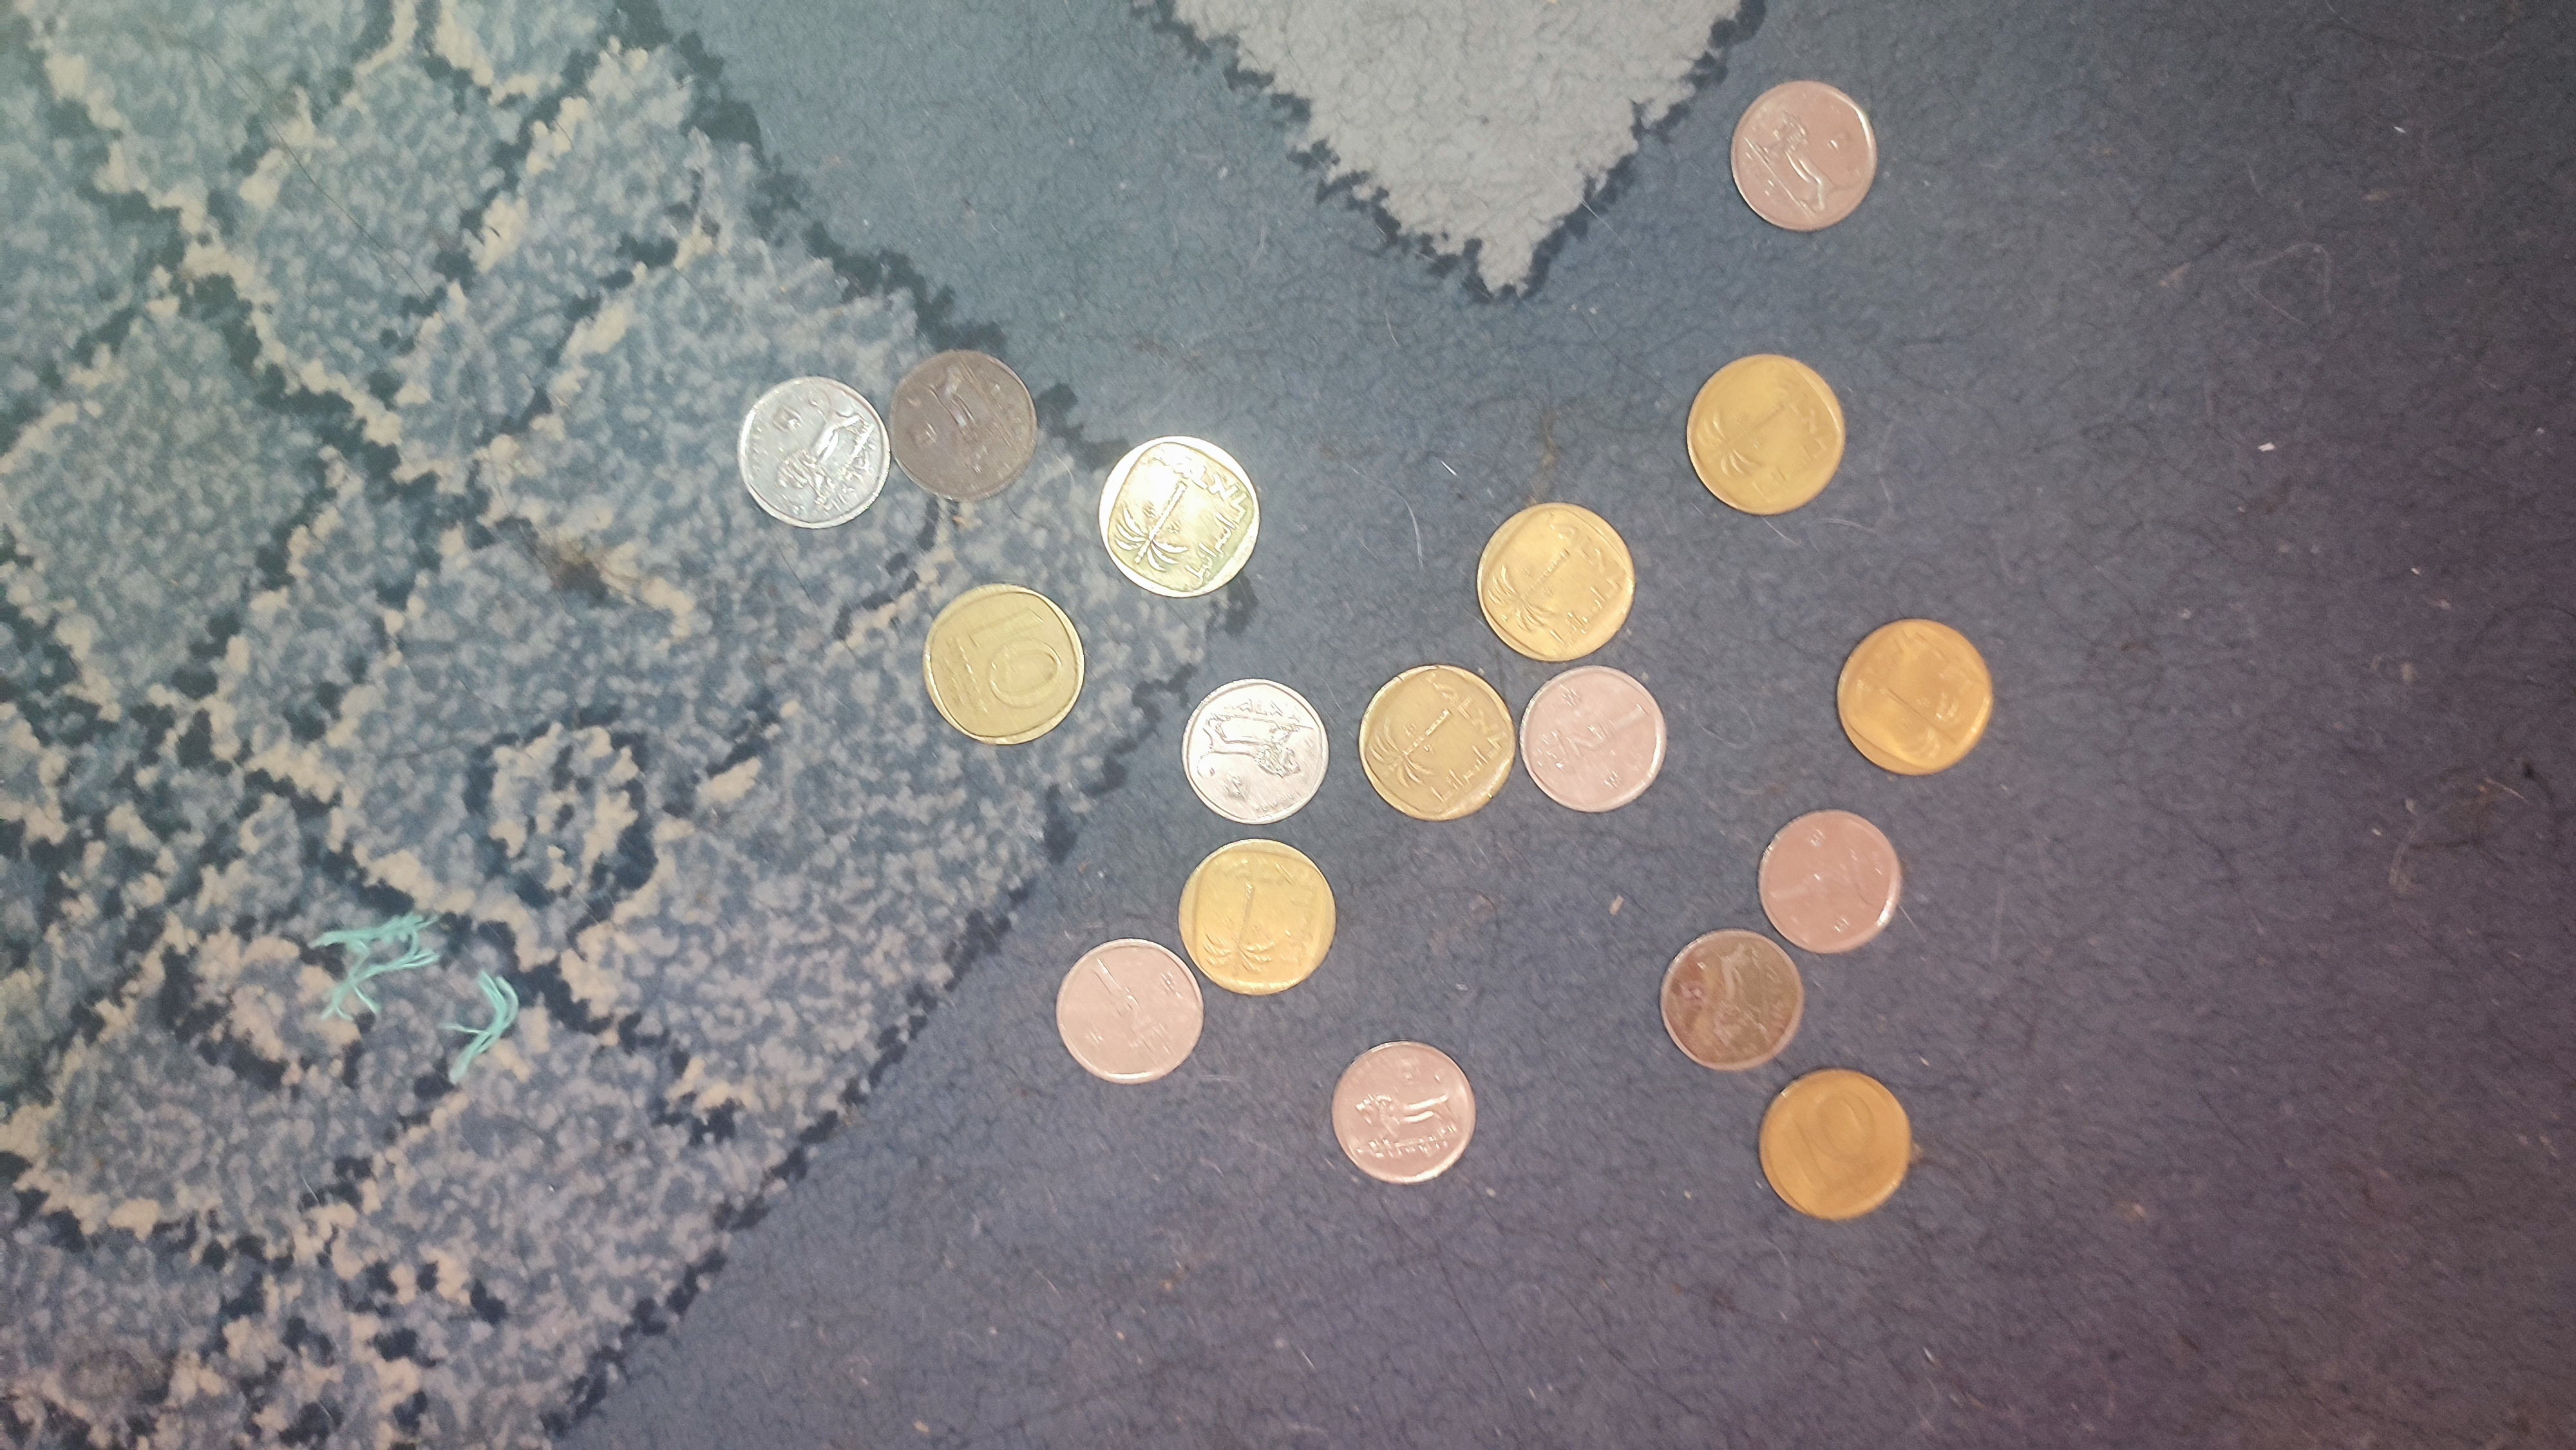1/2 old sheqel: (732, 371, 892, 530), (1727, 78, 1881, 235), (888, 347, 1039, 504), (1178, 675, 1332, 828), (1053, 935, 1207, 1088), (1755, 806, 1905, 958), (1518, 663, 1668, 815), (1329, 1038, 1479, 1187), (1658, 927, 1806, 1075)
10 old agora brown: (1095, 430, 1265, 605), (916, 578, 1086, 752), (1681, 350, 1851, 522), (1472, 497, 1640, 668), (1833, 612, 1997, 780), (1175, 831, 1338, 1001), (1357, 663, 1518, 831), (1753, 1063, 1913, 1225)
